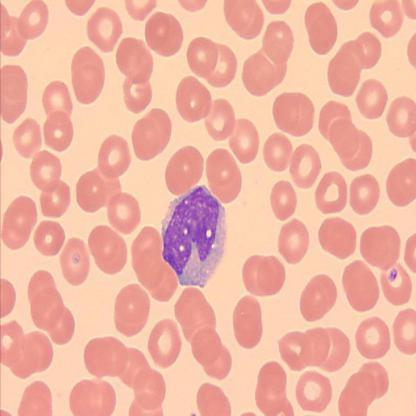Monocyte: (159, 182, 230, 292)
